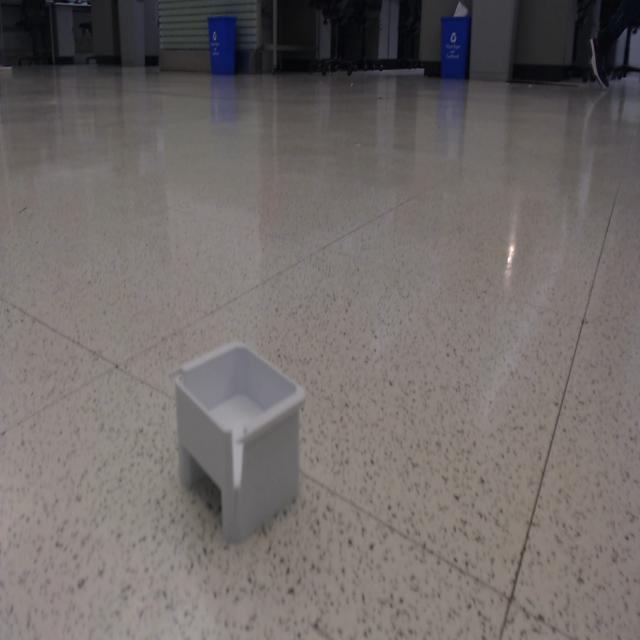wbox: (170, 336, 308, 544)
